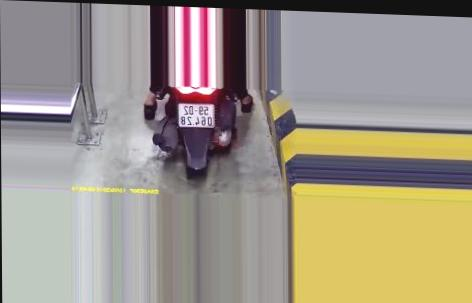License_Plate: (175, 100, 218, 132)
